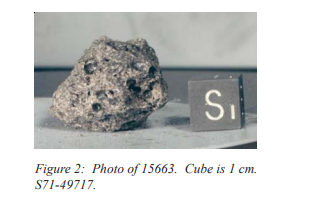Basalt: (45, 27, 168, 137)
